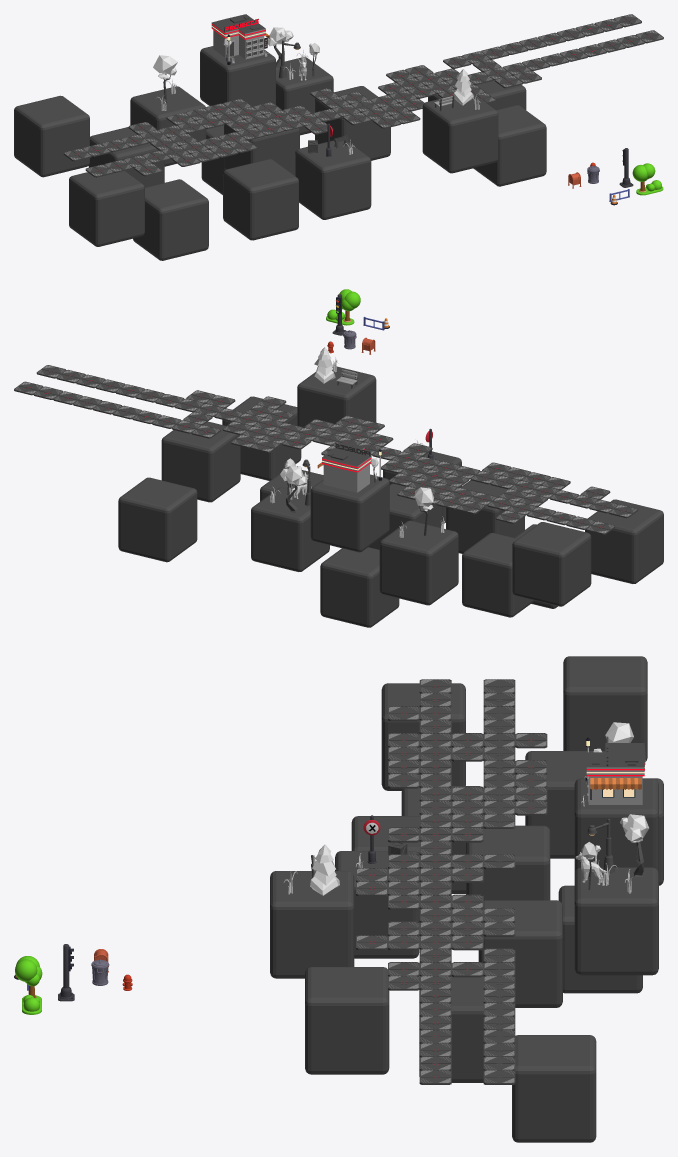
Rendered from decoration.glb.
3 renders of one model, top to bottom at view 1: azimuth 30°, elevation 25°; view 2: azimuth 150°, elevation 25°; view 3: azimuth 270°, elevation 25°, orthographic. The views are drawn at different scales.
Parts seen in each view (by area): view 1: cubes background, Plane.026, Plane.025, Plane.032, Plane.031, Plane.003, Cube.024, Trees; view 2: cubes background, Plane.026, Plane.025, Plane.031, Plane.032, Plane.003, Cube.024, Trees; view 3: cubes background, Plane.025, Plane.026, Plane.031, Plane.003, Plane.032, Cube.024, Trees.
Part boxes in pixels (x1,y1,x2,y2): cubes background: (14, 46, 546, 260); Plane.026: (443, 14, 641, 68); Plane.025: (467, 30, 663, 84); Plane.032: (63, 106, 262, 161); Plane.031: (85, 123, 284, 177); Plane.003: (275, 78, 474, 131); Cube.024: (211, 14, 265, 59); Trees: (632, 163, 663, 195); cubes background: (118, 366, 663, 627); Plane.026: (14, 381, 220, 438); Plane.025: (36, 365, 243, 421); Plane.031: (431, 461, 638, 518); Plane.032: (408, 478, 615, 534); Plane.003: (234, 413, 440, 469); Cube.024: (322, 442, 371, 492); Trees: (326, 289, 360, 325); cubes background: (270, 656, 663, 1142); Plane.025: (419, 948, 451, 1084); Plane.026: (483, 948, 515, 1084); Plane.031: (419, 679, 451, 814); Plane.003: (419, 814, 451, 949); Plane.032: (483, 679, 515, 814); Cube.024: (586, 743, 645, 804); Trees: (15, 956, 42, 1014).
Size of the model in its own units: 23.18 by 6.08 by 15.42.
19 materials, 9 textured.
